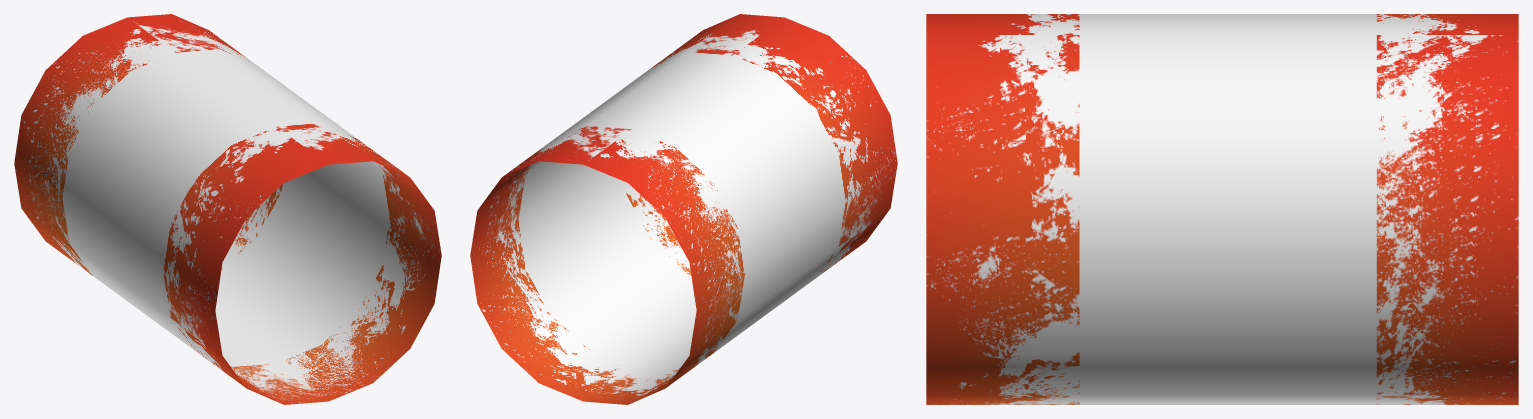
File: Portal_Pillar-Red.fbx
The picture shows the model from 3 angles, left to right: view 1: azimuth 30°, elevation 25°; view 2: azimuth 150°, elevation 25°; view 3: azimuth 270°, elevation 25°; orthographic projection. The views are drawn at different scales.
Parts seen in each view (by area): view 1: Portal_Pillar-Red; view 2: Portal_Pillar-Red; view 3: Portal_Pillar-Red.
Part boxes in pixels (box(x1,y1,x2,y2)): Portal_Pillar-Red: box(14, 14, 441, 404); Portal_Pillar-Red: box(470, 14, 897, 404); Portal_Pillar-Red: box(926, 14, 1518, 404).
Size of the model in its own units: 1305 by 1305 by 2009.
1 material, 1 textured.
